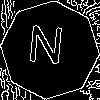N: (25, 25, 66, 74)
